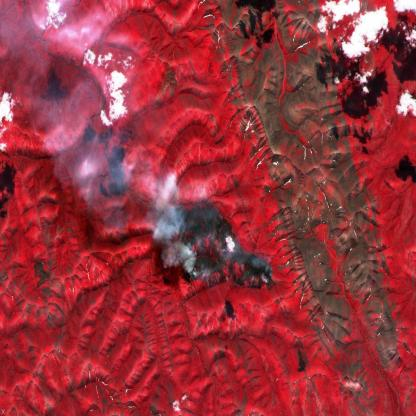fire: (172, 232, 275, 296)
